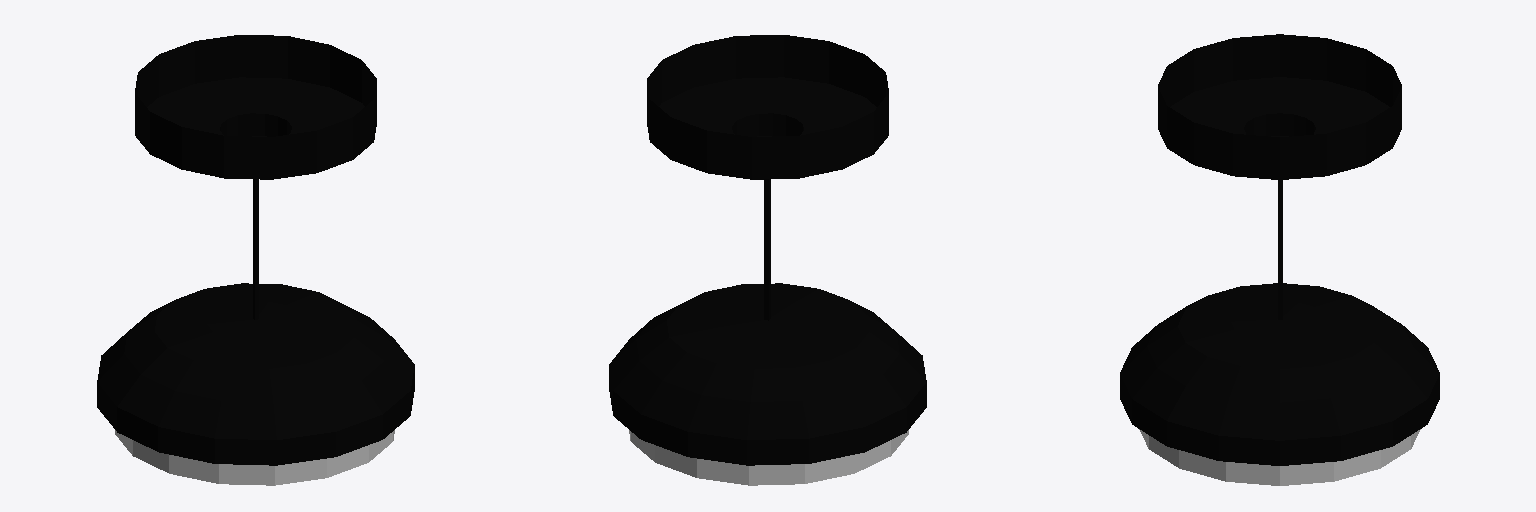
File: Lustra.obj
3 renders of one model, left to right at view 1: azimuth 30°, elevation 25°; view 2: azimuth 150°, elevation 25°; view 3: azimuth 270°, elevation 25°, orthographic.
Parts seen in each view (by area): view 1: Lustra; view 2: Lustra; view 3: Lustra.
Part boxes in pixels (bbox=[...]): Lustra: bbox=[97, 35, 414, 485]; Lustra: bbox=[609, 35, 926, 485]; Lustra: bbox=[1120, 34, 1439, 485].
Bounding box in the file's own units: 0.4876 × 0.5717 × 0.4876.